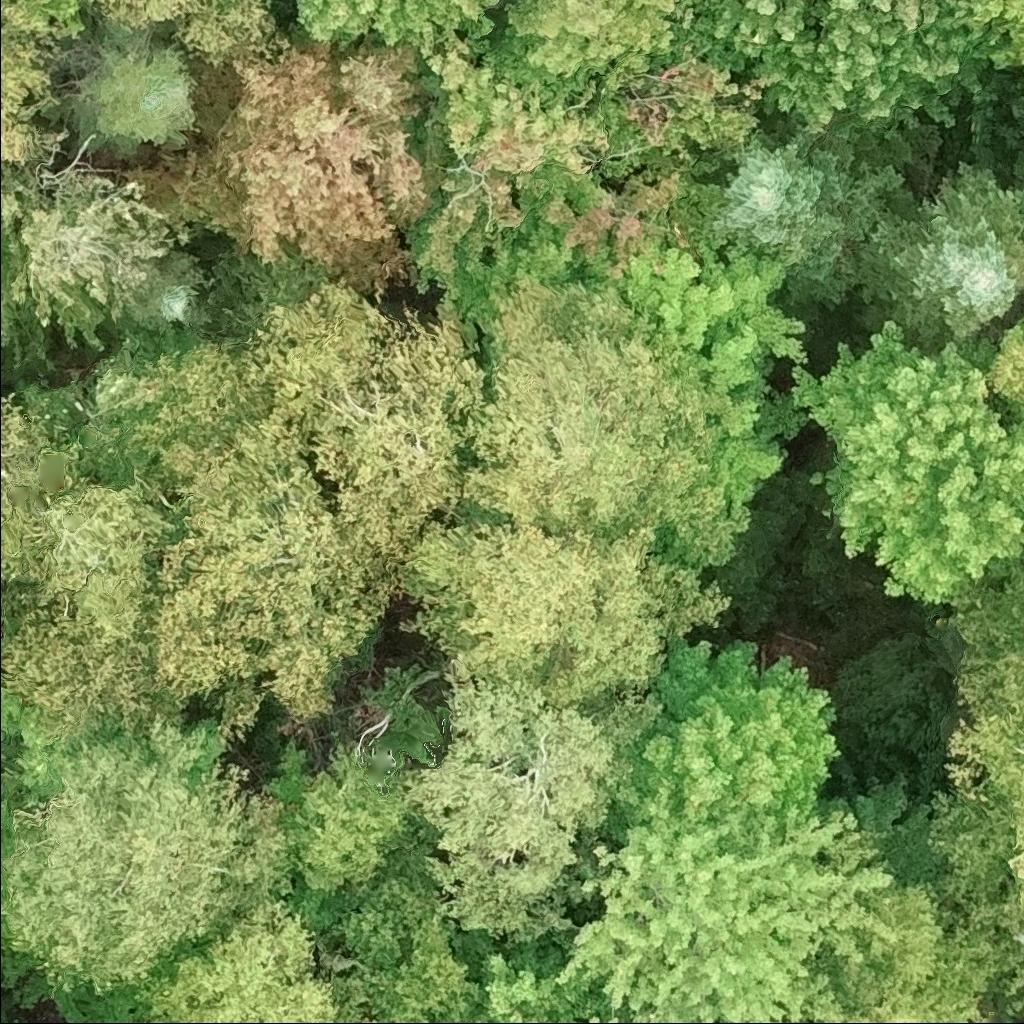crown: (125, 342, 408, 744), (0, 709, 302, 1001), (454, 276, 751, 571), (113, 33, 444, 297), (518, 800, 905, 1023), (231, 276, 495, 573), (401, 670, 667, 951), (395, 509, 736, 707), (789, 320, 1023, 607), (405, 33, 611, 312), (615, 217, 812, 506), (595, 636, 846, 845), (0, 482, 206, 732), (671, 0, 1007, 144), (711, 112, 920, 313), (0, 162, 190, 374), (928, 567, 1023, 933), (853, 157, 1023, 353), (128, 892, 378, 1023), (801, 880, 1003, 1023), (594, 47, 784, 187), (510, 167, 717, 288), (465, 0, 705, 99), (330, 875, 479, 1023), (287, 747, 421, 897), (65, 45, 198, 157), (459, 935, 622, 1023), (89, 0, 291, 66), (0, 0, 69, 168), (0, 389, 52, 592), (118, 244, 218, 337), (350, 0, 500, 58), (968, 0, 1023, 77), (293, 0, 373, 52), (987, 316, 1023, 411), (1000, 947, 1023, 1012), (1012, 145, 1023, 187)
